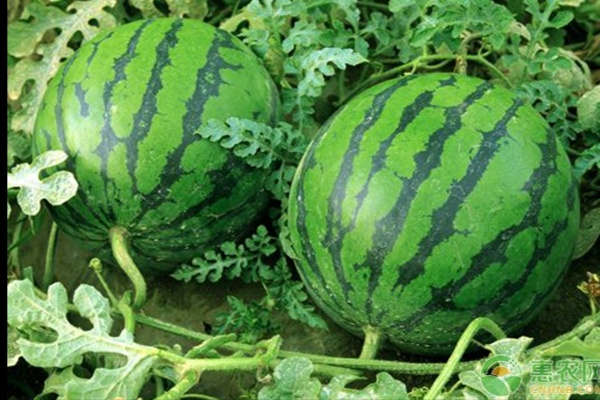watermelon: (296, 69, 582, 338), (31, 15, 279, 268)
